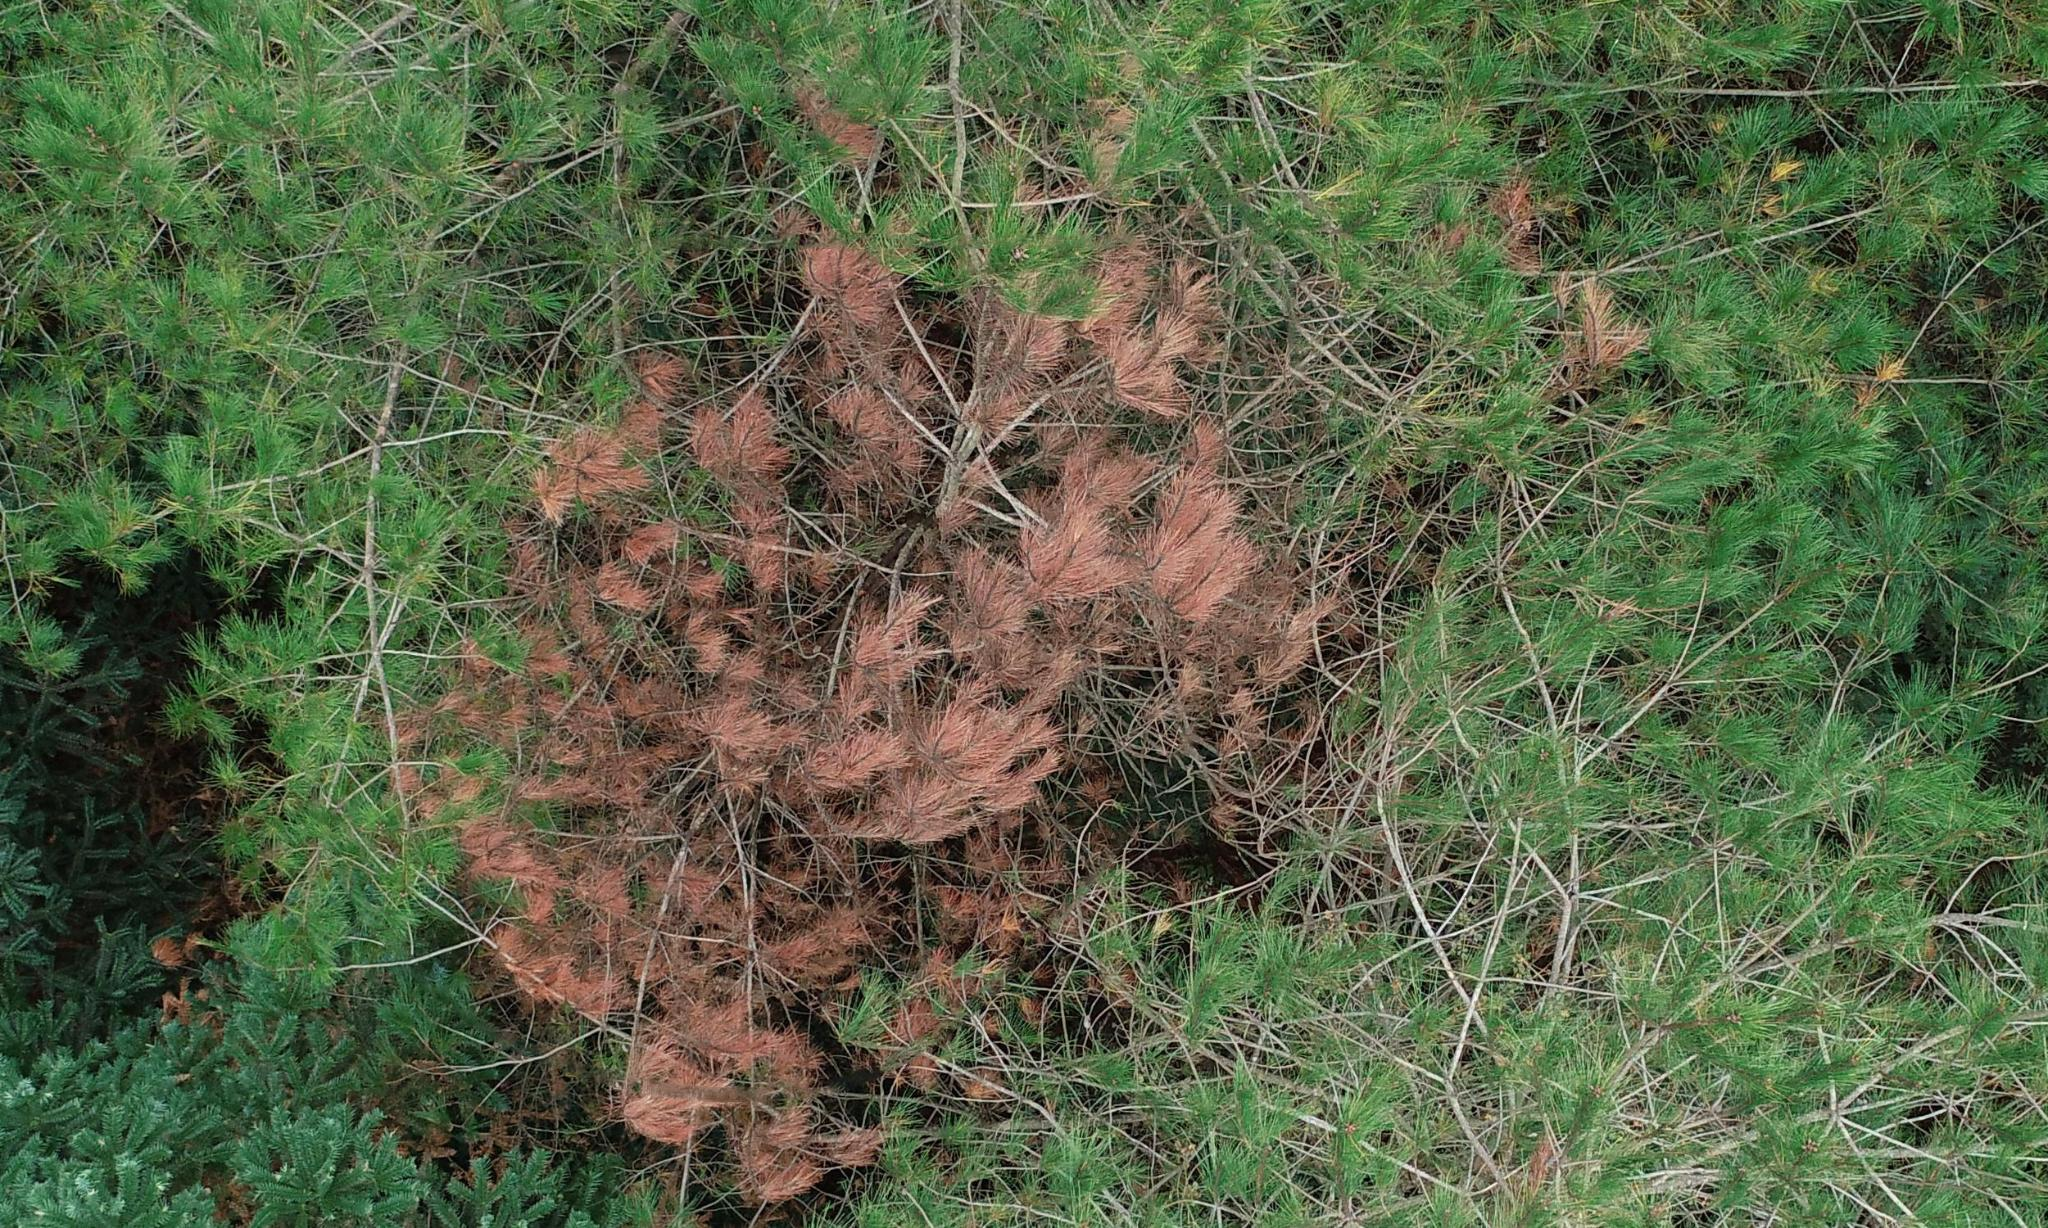heavy: (434, 174, 1313, 1190)
